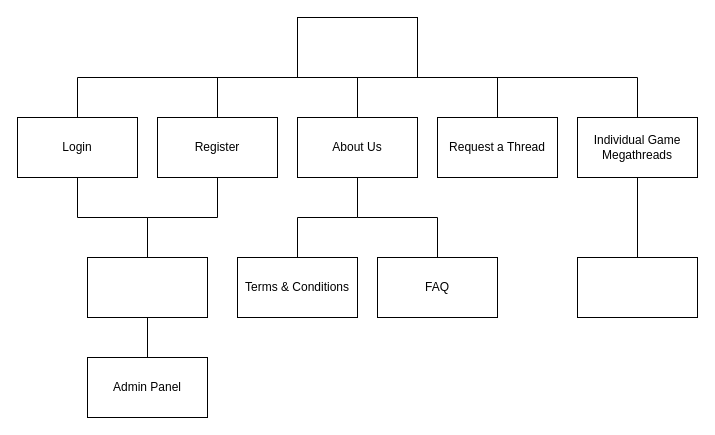
Some shapes in this 715 by 435 pixel diagram are drawn without their labels. The centre of each missing label's shape, as x and y in pixels:
Account: the point at 147,287
Home/Discover: the point at 357,47
Subthreads of Individual Game Threads: the point at 637,287
